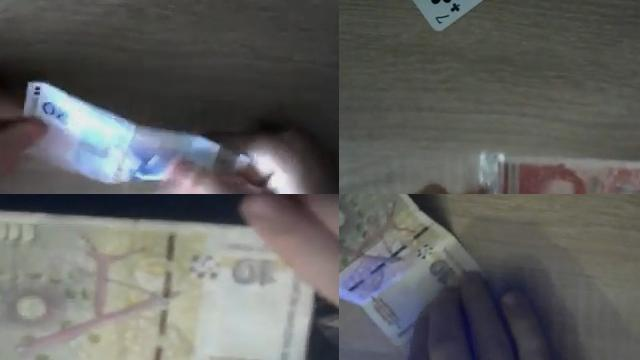10leva: (0, 207, 320, 360), (339, 194, 481, 346)
20leva: (23, 79, 250, 183)
5leva: (493, 154, 640, 194)
